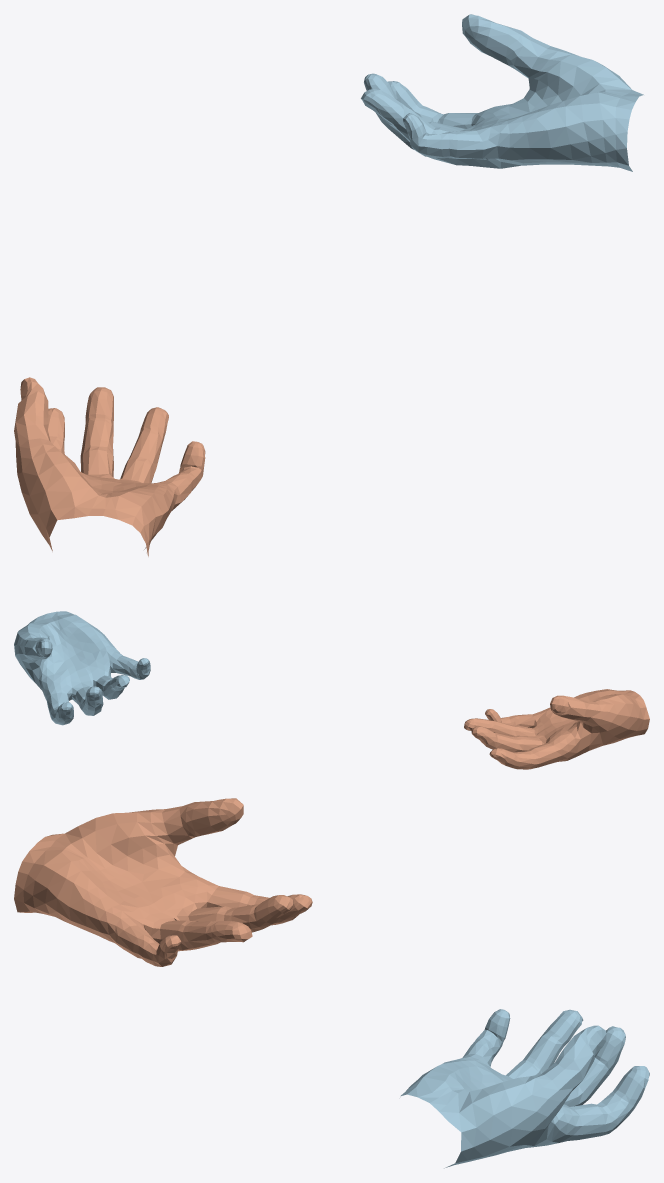
File: frame_021.glb
The picture shows the model from 3 angles, top to bottom: view 1: azimuth 30°, elevation 25°; view 2: azimuth 150°, elevation 25°; view 3: azimuth 270°, elevation 25°; orthographic projection. The views are drawn at different scales.
Parts seen in each view (by area): view 1: world; view 2: world; view 3: world.
Boxes of the visible parts, x1=… form: world: x1=14, y1=14, x2=643, y2=556; world: x1=14, y1=611, x2=649, y2=769; world: x1=14, y1=798, x2=649, y2=1168.
Bounding box in the file's own units: 0.4979 × 0.1201 × 0.3505.
